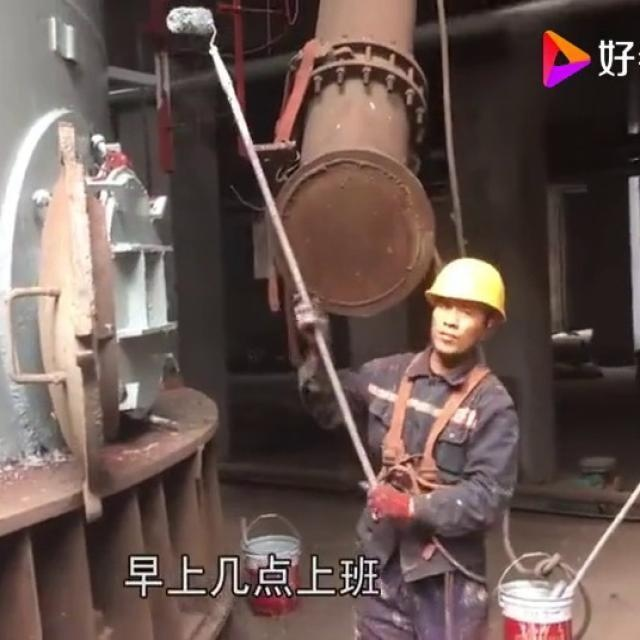Arnes_seguridad: (373, 340, 501, 498)
